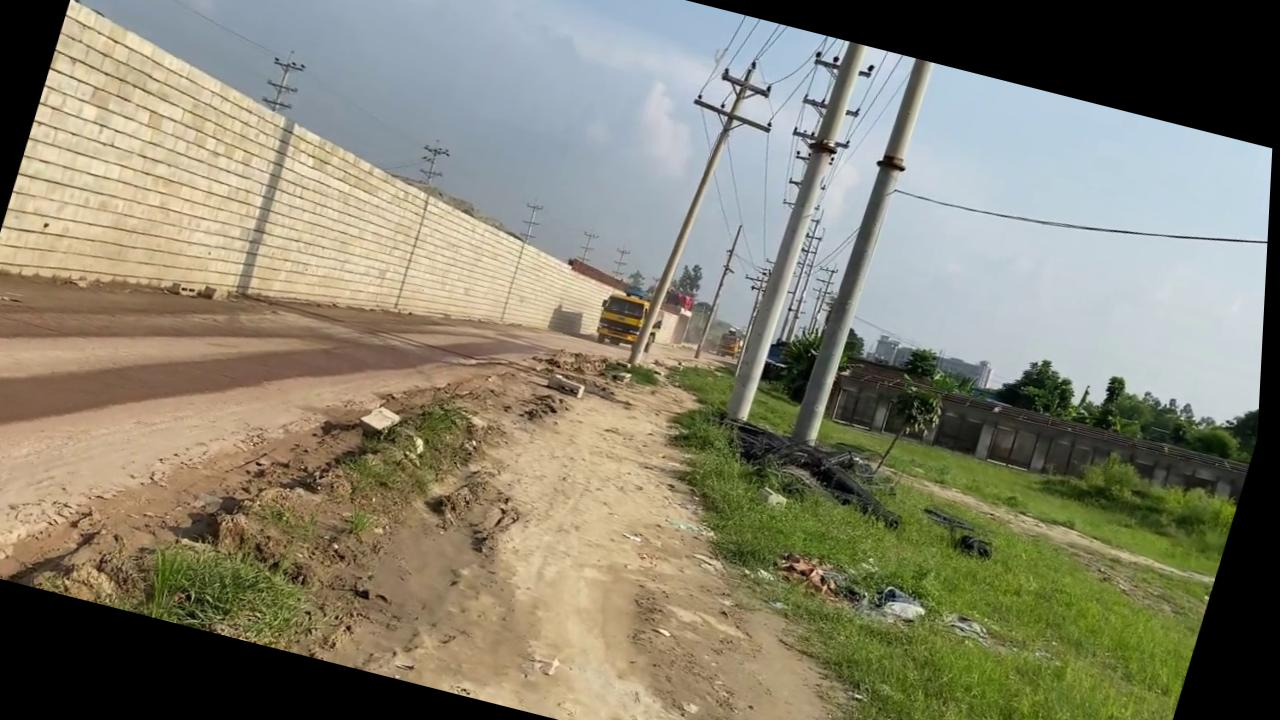Garbage: (707, 413, 926, 533)
Muddy road: (0, 175, 1013, 720)
Obstacle: (358, 401, 407, 444), (548, 370, 592, 399)
Pole: (618, 48, 790, 381), (792, 56, 936, 447), (726, 39, 868, 424)
Tree: (593, 288, 672, 356), (717, 325, 749, 360)
Upstairs: (0, 0, 717, 432)
